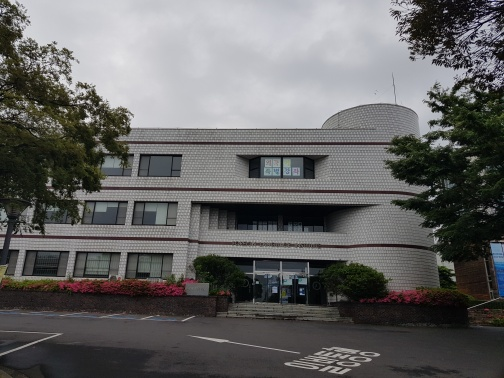Foreign Language Institute: (98, 98, 465, 325), (170, 217, 363, 324), (79, 189, 192, 238), (227, 146, 337, 190)
